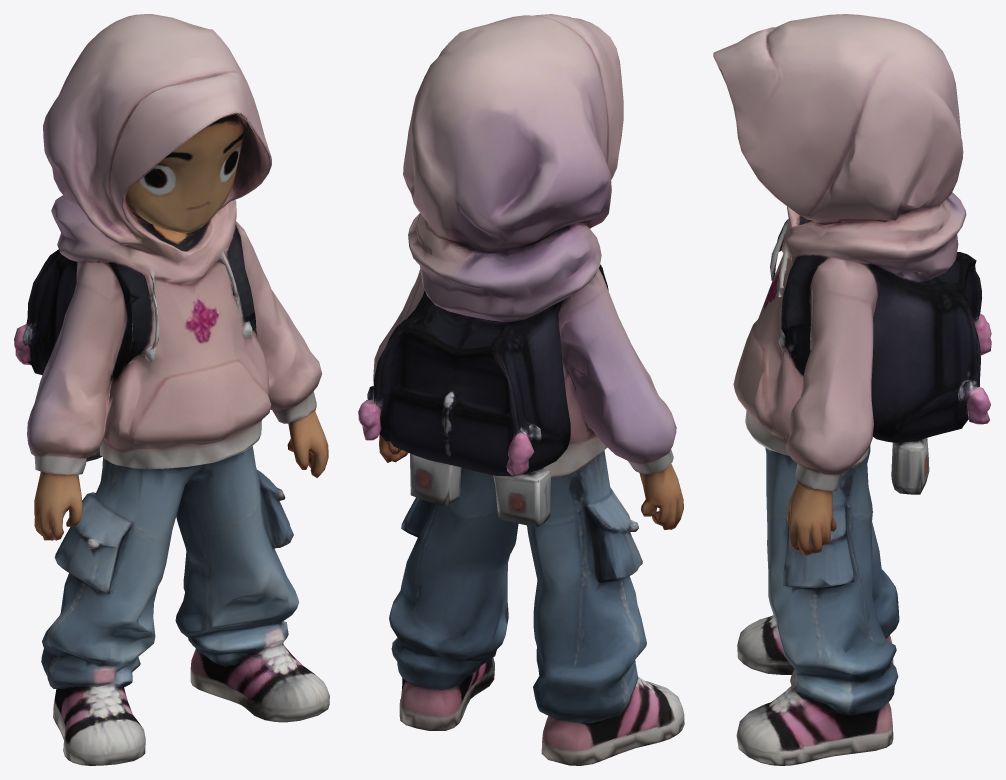
Rendered from nur.glb.
3 renders of one model, left to right at view 1: azimuth 30°, elevation 25°; view 2: azimuth 150°, elevation 25°; view 3: azimuth 270°, elevation 25°, orthographic. The views are drawn at different scales.
Visible parts, largest first — view 1: character; view 2: character; view 3: character.
Part boxes in pixels (left/top/right/bottom): character: left=14, top=14, right=329, bottom=765; character: left=358, top=14, right=684, bottom=765; character: left=713, top=14, right=991, bottom=765.
Size of the model in its own units: 0.6642 by 1.48 by 0.5497.
Materials: 1 (1 with a texture image).
